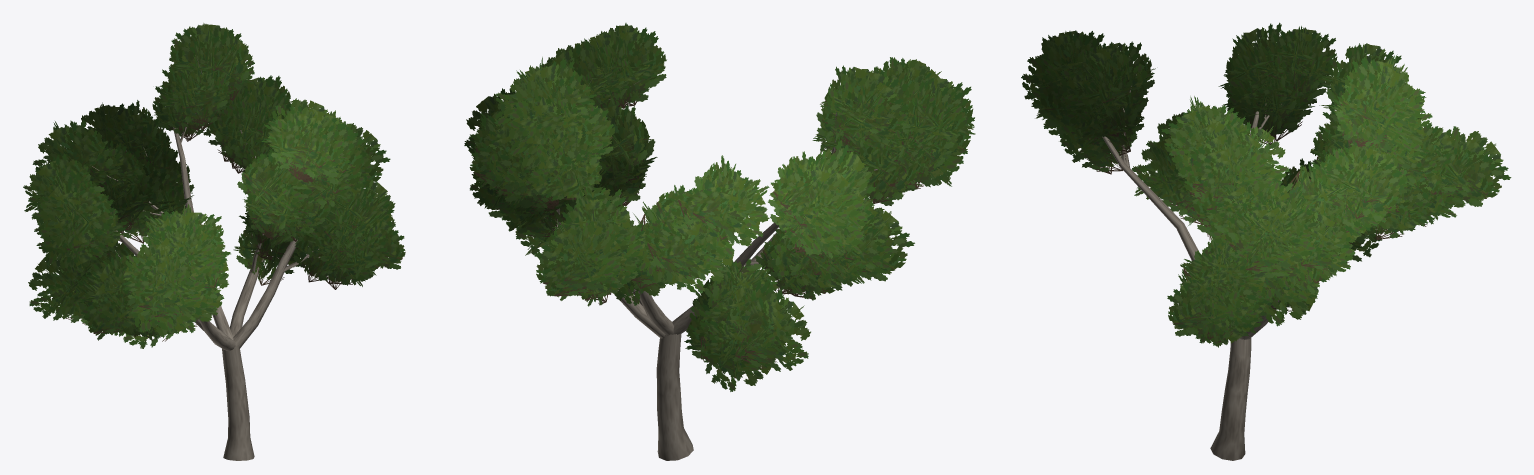
Rendered from veg_oak_a.fbx.
3 views of the same model, side by side, from view 1: azimuth 30°, elevation 25°; view 2: azimuth 150°, elevation 25°; view 3: azimuth 270°, elevation 25° (orthographic). The views are drawn at different scales.
Parts seen in each view (by area): view 1: veg_oak_a_LOD0; view 2: veg_oak_a_LOD0; view 3: veg_oak_a_LOD0.
Part boxes in pixels (x1,y1,x2,y2): veg_oak_a_LOD0: (23,23,405,460); veg_oak_a_LOD0: (464,23,975,460); veg_oak_a_LOD0: (1021,22,1511,460).
Size of what is drawn, in the model's own units: 14.72 by 14.91 by 16.11.
Materials: 2 (2 with a texture image).
